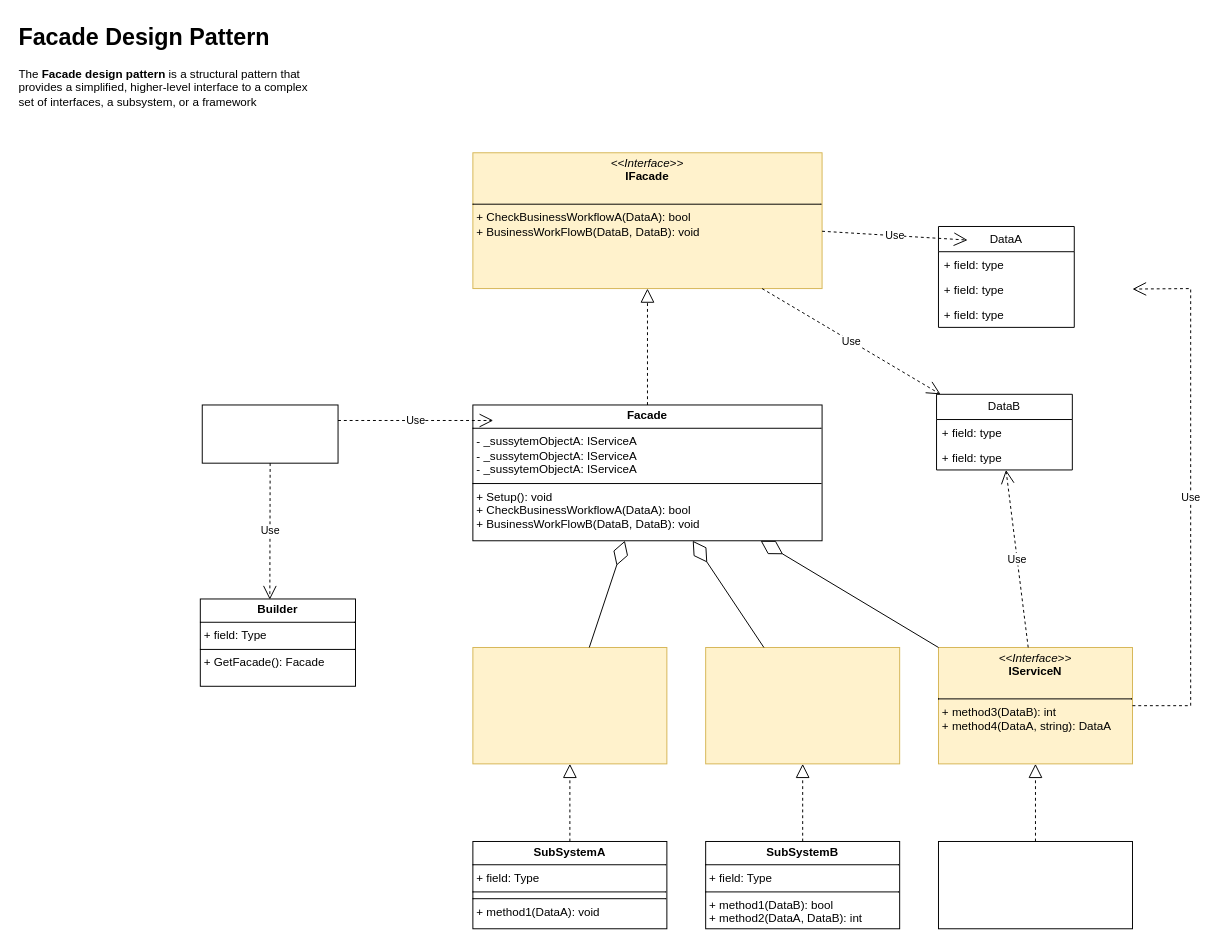
Image size: 1221x946. Some labels were removed from this diagram. Here are the shapes that lost their labels. From the top down, the centre of each, then its label:
At point 269,433: "Client".
At point 569,705: "<<Interface>> IServiceA + method1(DataA): void".
At point 802,705: "<<Interface>> IServiceB + method1(DataB): bool + method2(DataA, DataB): int".
At point 1035,885: "SubSystemN + field: Type + method3(DataB): int + method4(DataA, string): DataA".
